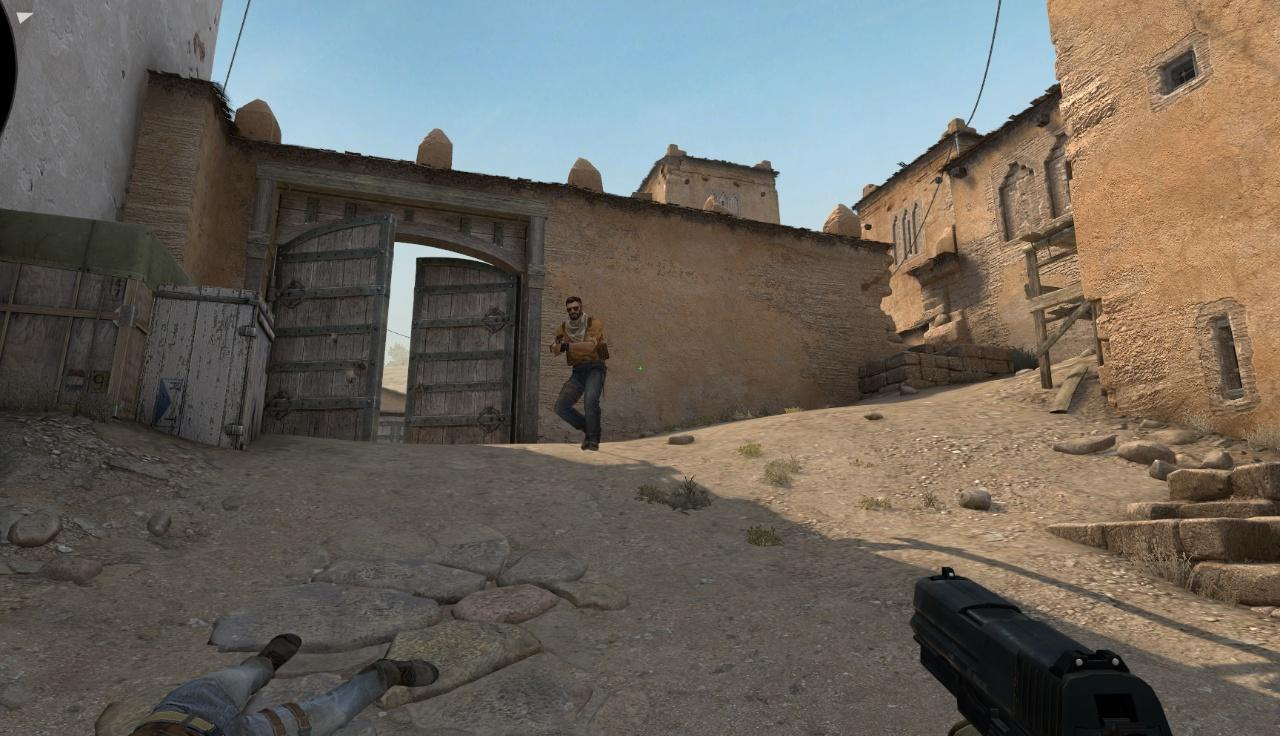pistol: (916, 567, 1173, 736)
tt: (553, 296, 608, 446)
tthead: (565, 297, 584, 321)
